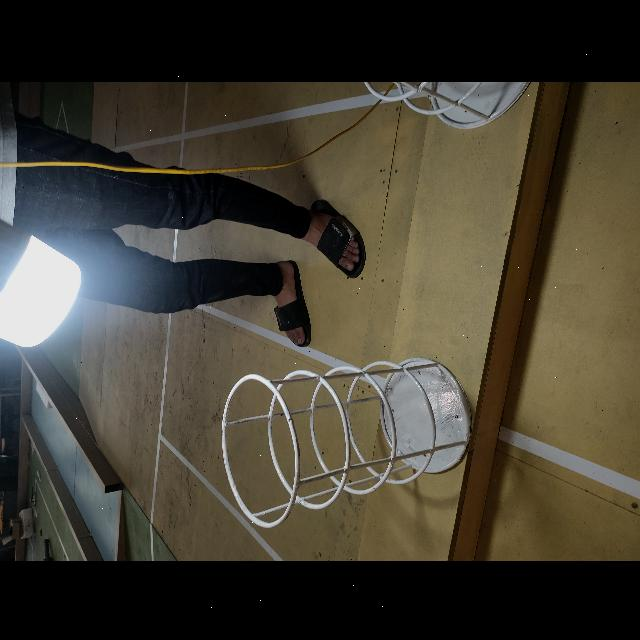S: (212, 348, 475, 534), (336, 80, 537, 133)
